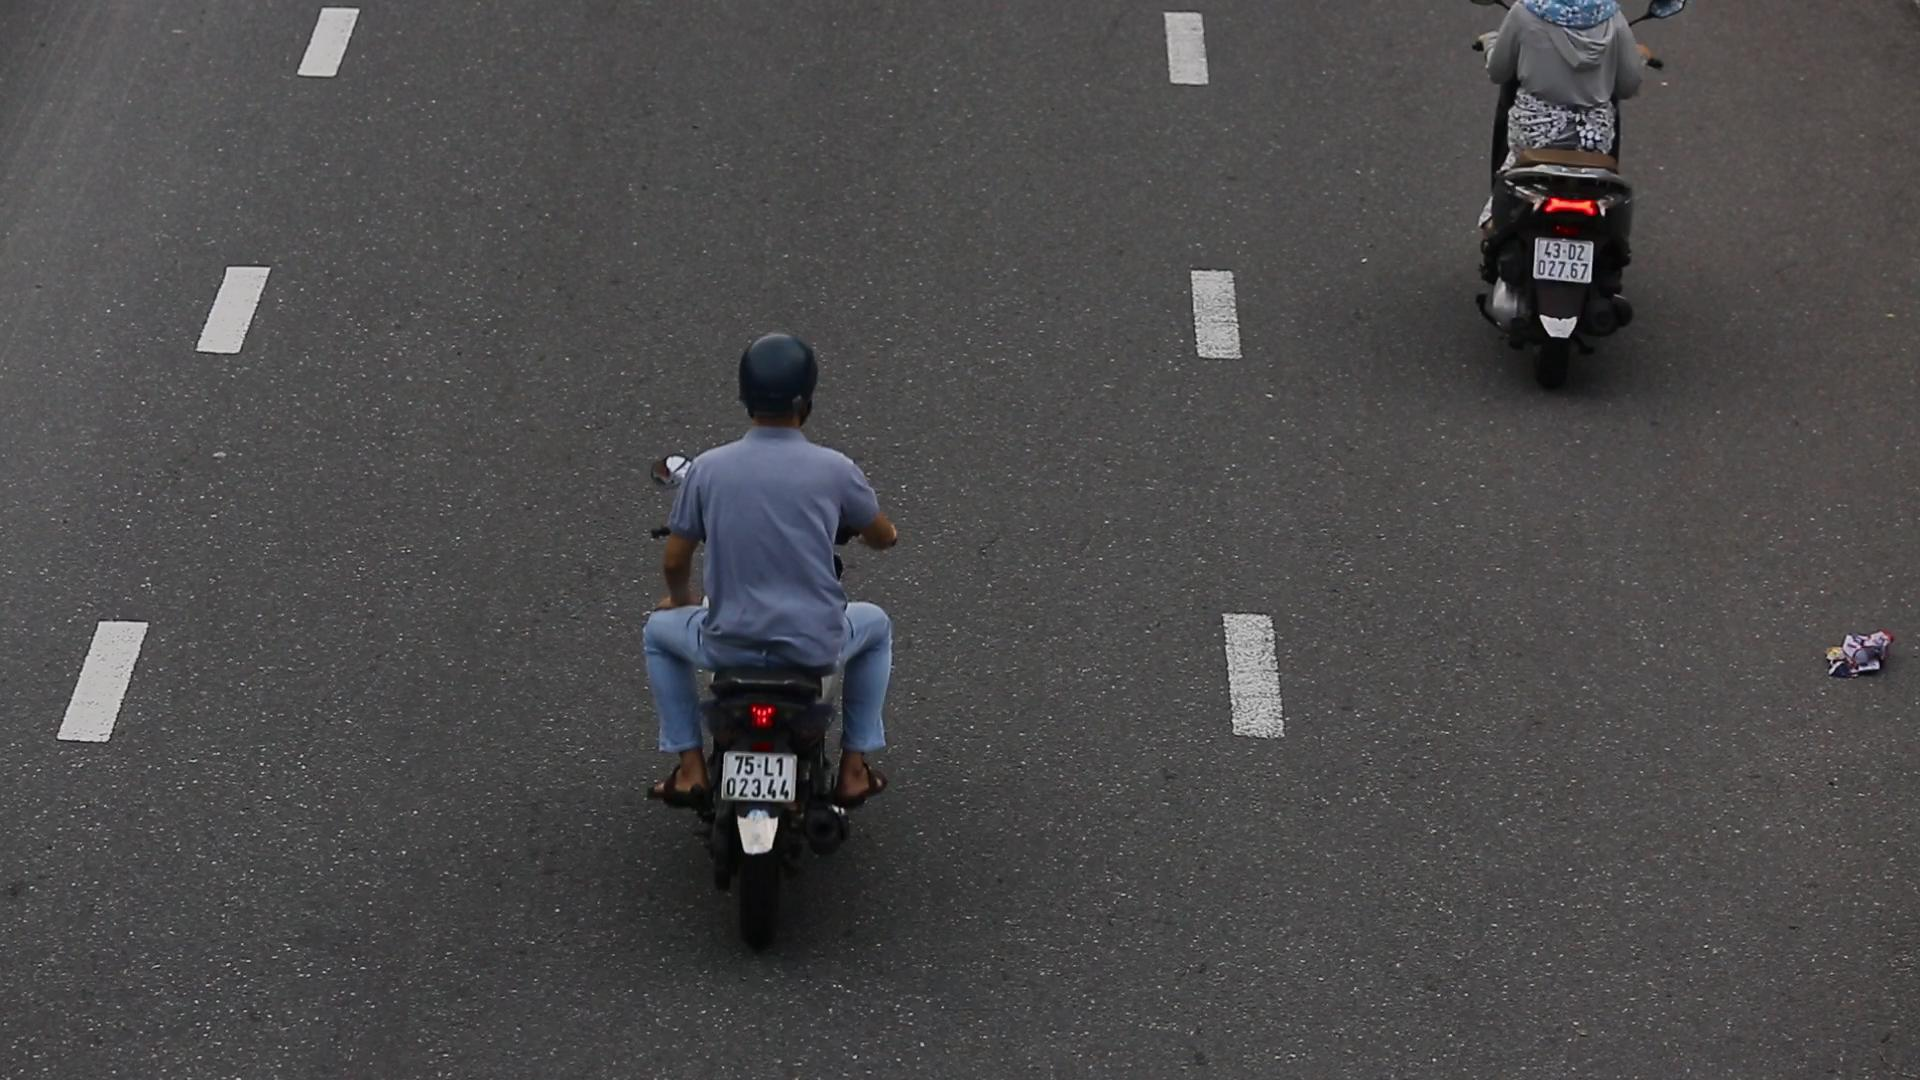motobike: (633, 326, 913, 945)
